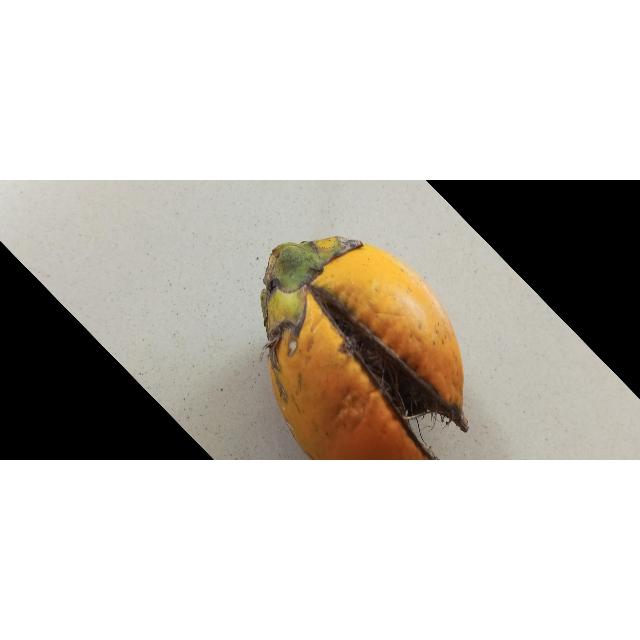damaged: (260, 237, 469, 461)
